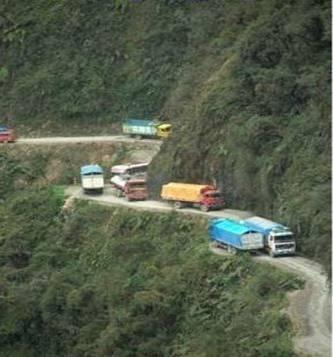bus: (110, 163, 149, 180), (0, 128, 17, 144)
car: (122, 180, 148, 201)
truck: (208, 217, 265, 256), (158, 182, 227, 214), (243, 216, 297, 256), (121, 121, 175, 140), (80, 166, 104, 194), (123, 179, 150, 202), (1, 127, 16, 143)
